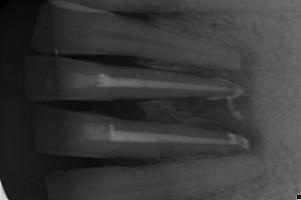Furcation Involvement: (174, 44, 263, 153)
